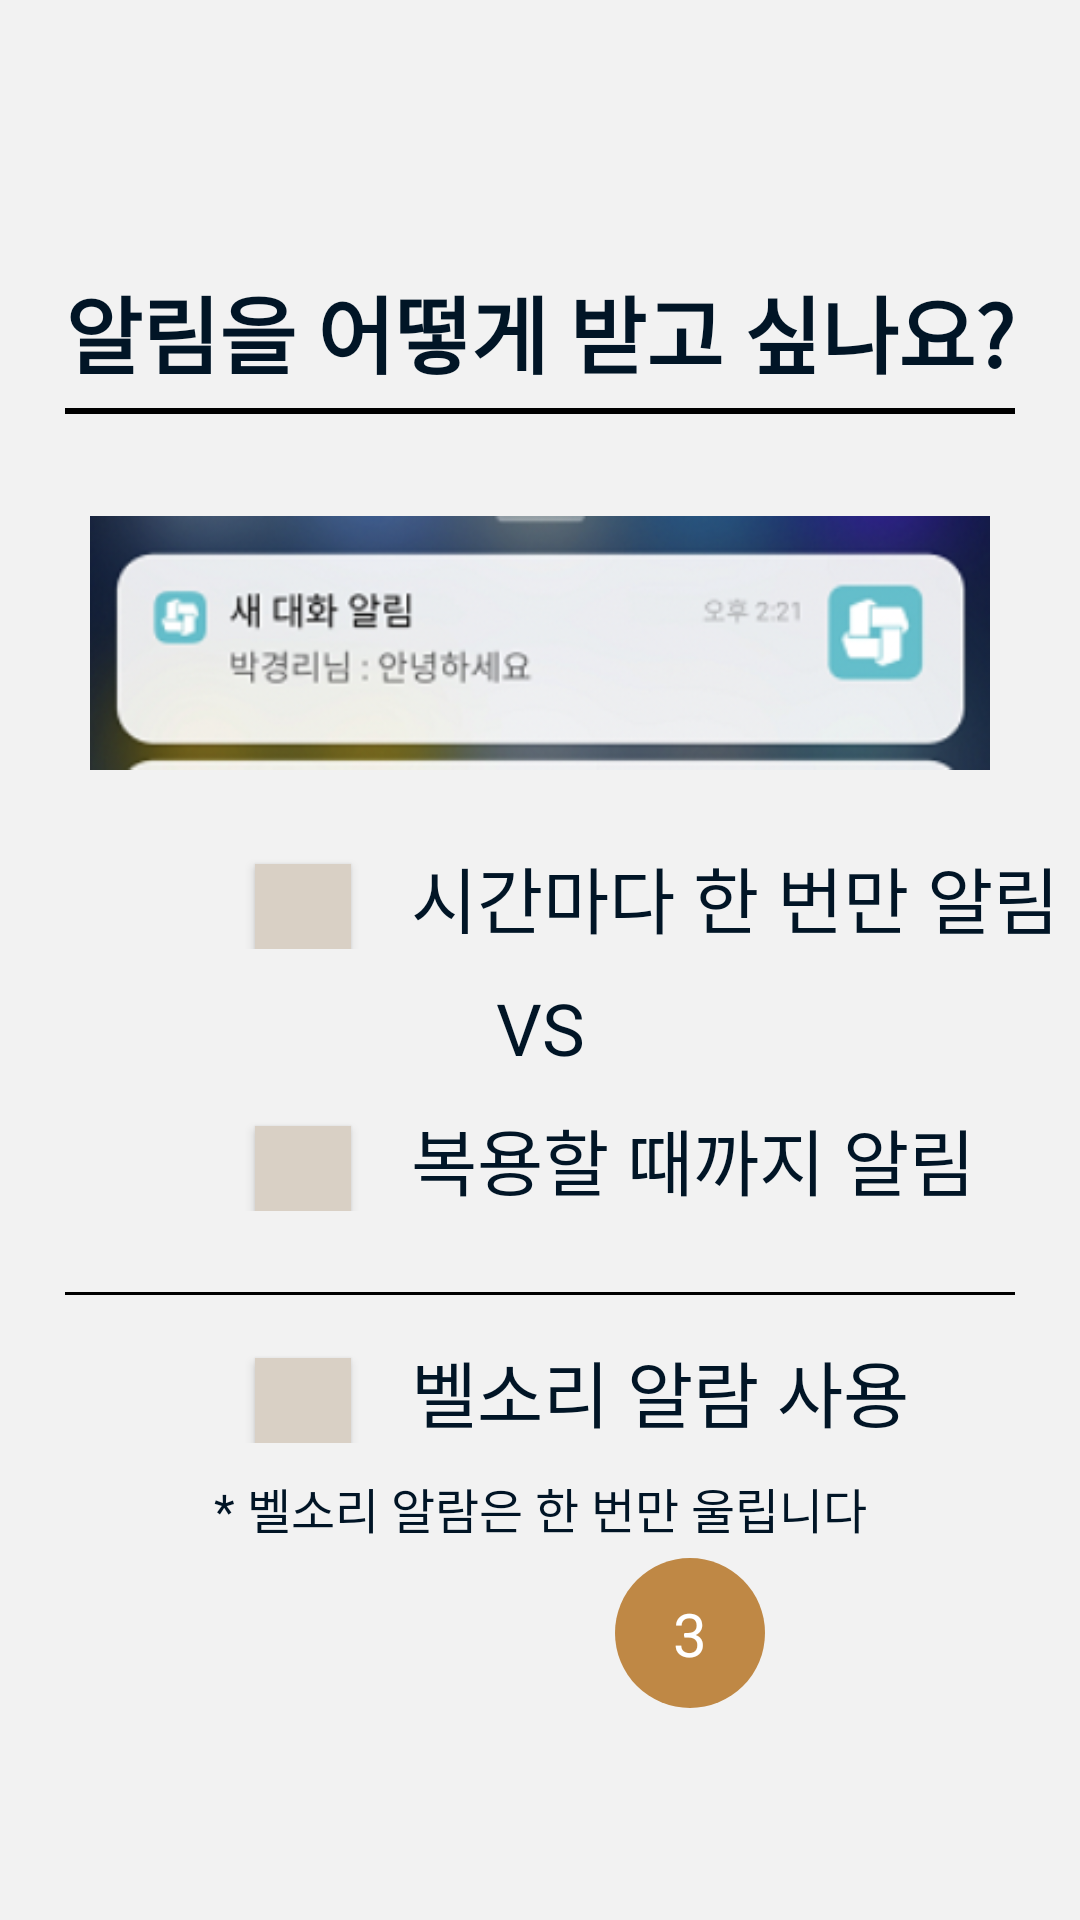

Screen size 1080 × 1920. Icon name, then its box in pixels as (x1, y1, x2, y2):
circleview on: (615, 1558, 765, 1708)
